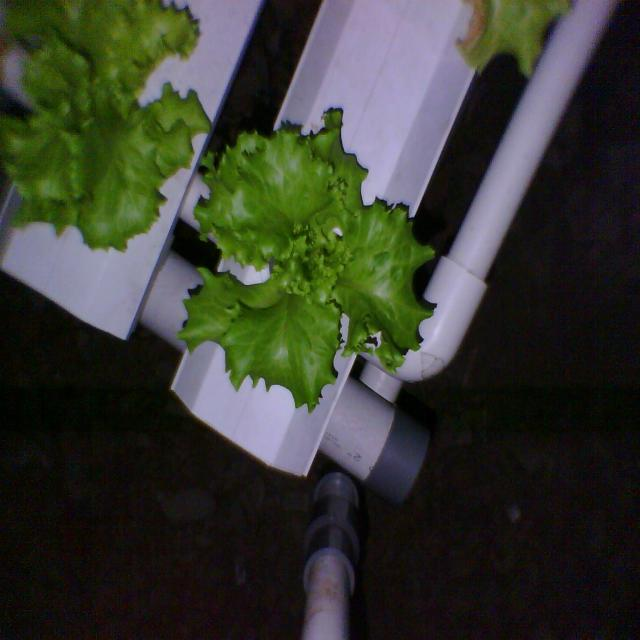FN: (173, 100, 443, 423), (0, 0, 215, 262)
